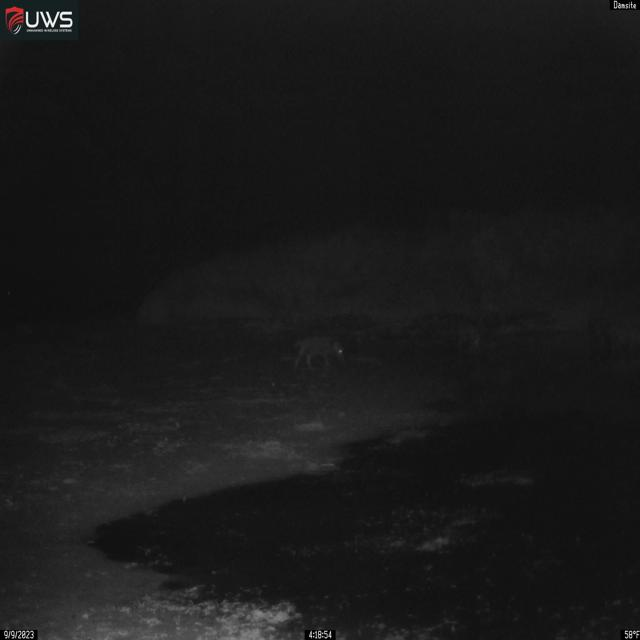pig: (292, 334, 346, 373)
